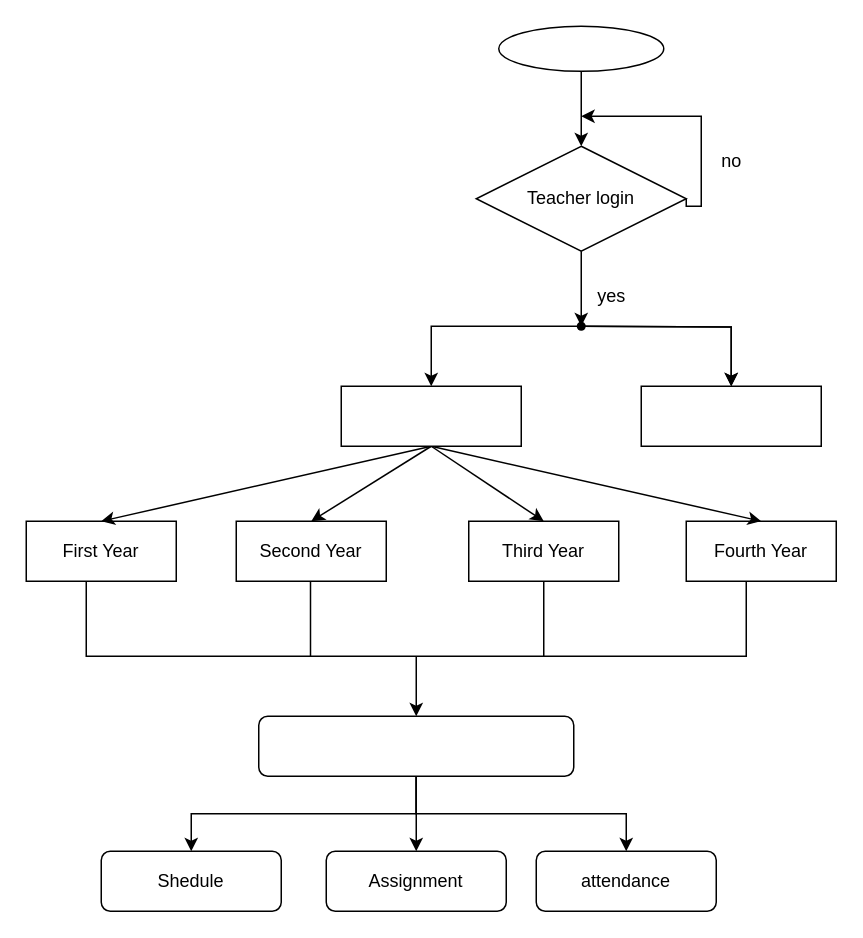
Some shapes in this 863 by 938 pixel diagram are drawn without their labels. Here are the shapes that lost their labels. From the top down, the centre of each, then its label:
At [580,48]: "Start".
At [430,415]: "Home".
At [730,415]: "Profile".
At [415,745]: "Dashboard".
